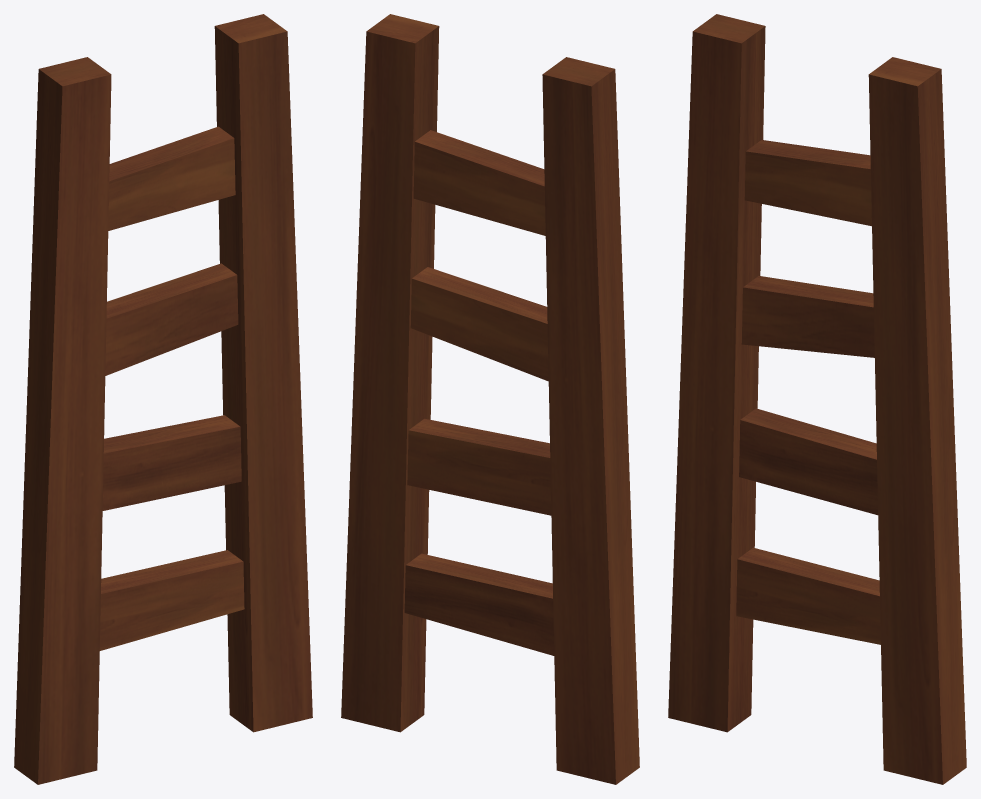
The model's file is STB0110003.FBX.
3 views of the same model, side by side, from view 1: azimuth 30°, elevation 25°; view 2: azimuth 150°, elevation 25°; view 3: azimuth 330°, elevation 25° (orthographic).
Visible parts, largest first — view 1: smSTB0110003; view 2: smSTB0110003; view 3: smSTB0110003.
Part boxes in pixels (<box>): smSTB0110003: <box>14,14,312,784</box>; smSTB0110003: <box>341,14,639,784</box>; smSTB0110003: <box>668,14,966,784</box>.
Size of the model in its own units: 1.17 by 2.83 by 0.1766.
1 material, 1 textured.
